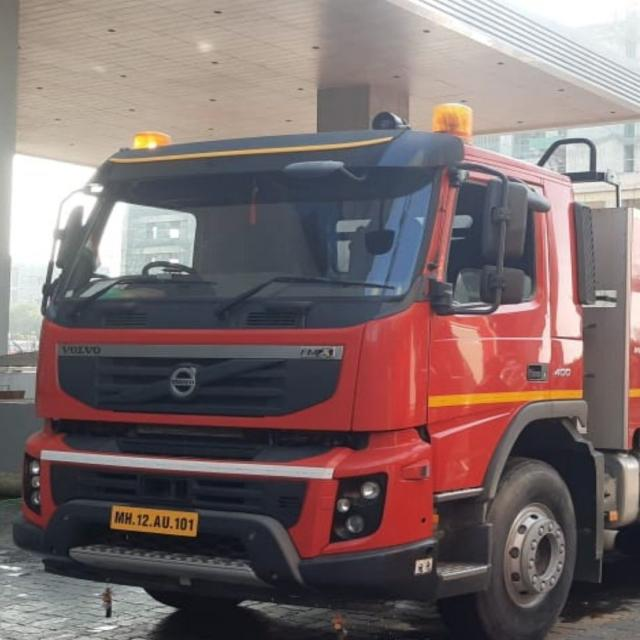emergency: (14, 105, 639, 640)
